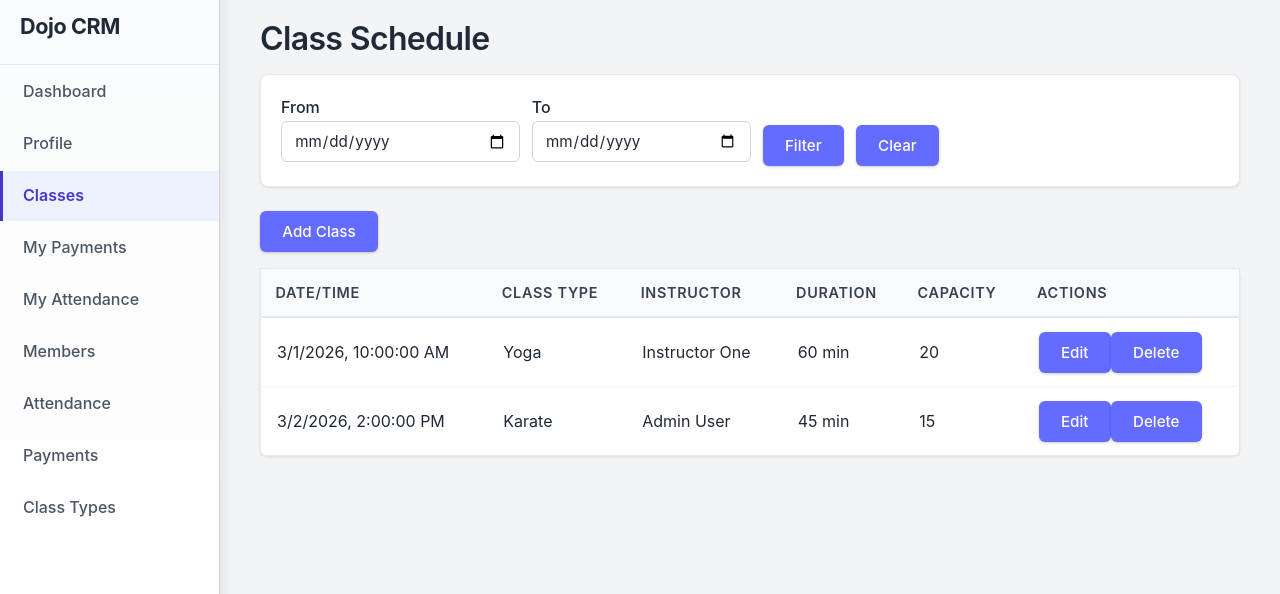
Test: Classes › shows error when class creation fails
The image size is (1280, 594).
Click the button "Add Class". click: (319, 232)
box: x1=260 y1=211 x2=378 y2=252
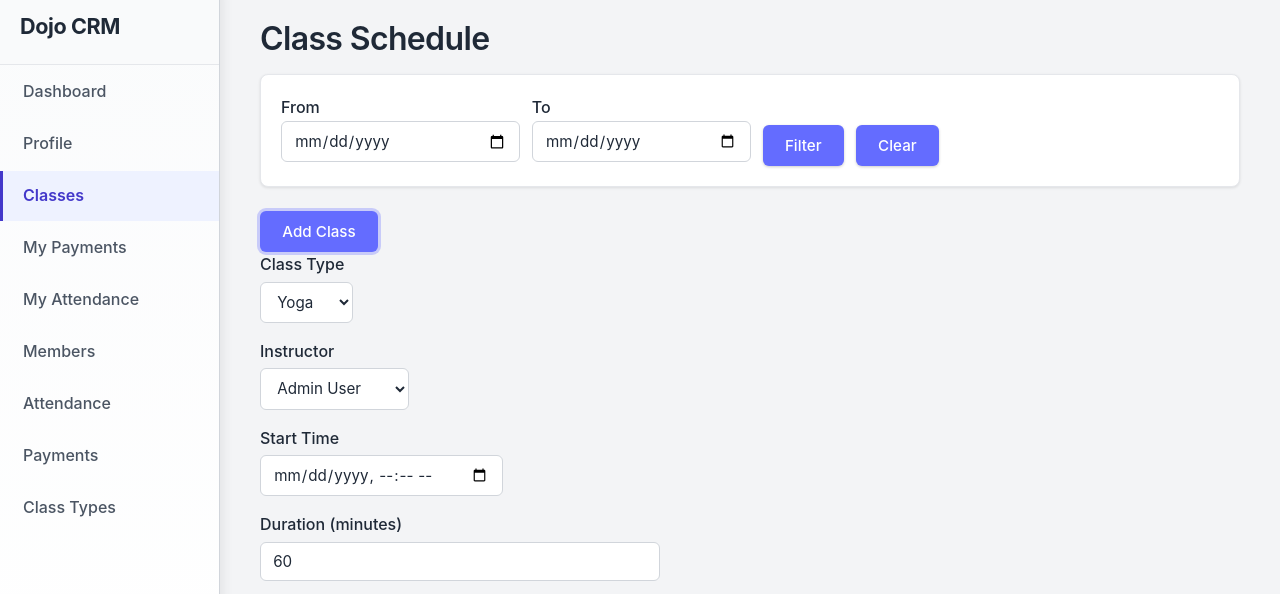
Type "2026-04-01T09:00" into the field labelled "Start Time". click: (381, 476)
box: x1=260 y1=455 x2=502 y2=496
(page scrolled)
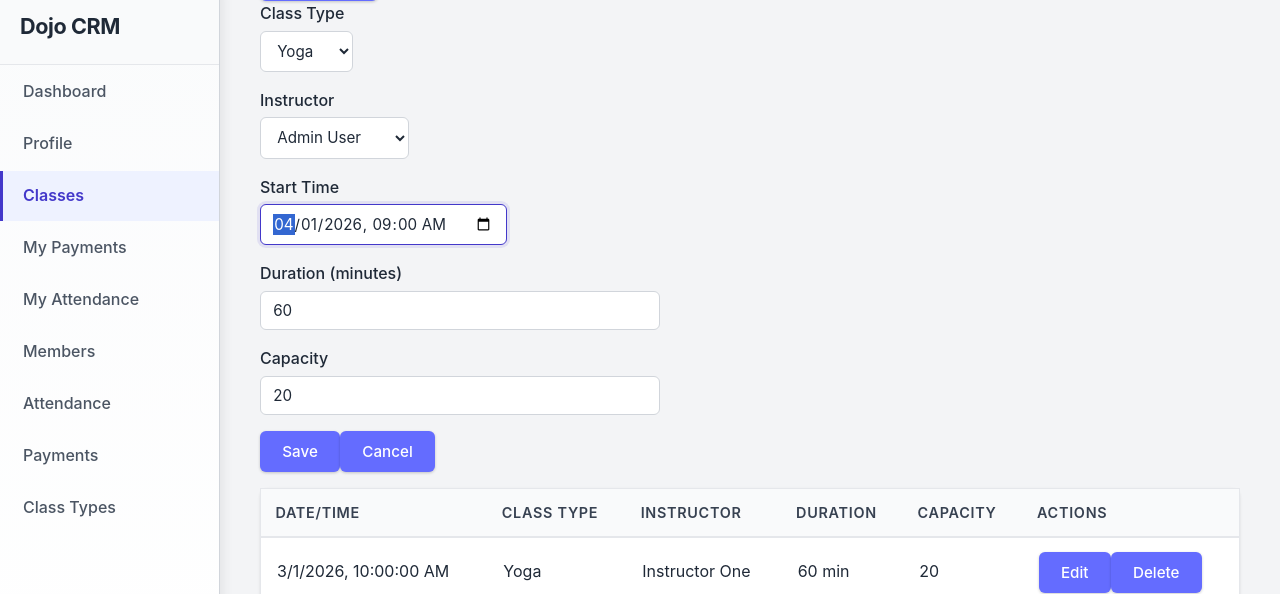
Click the button "Save". click: (300, 451)
box: x1=260 y1=431 x2=340 y2=472
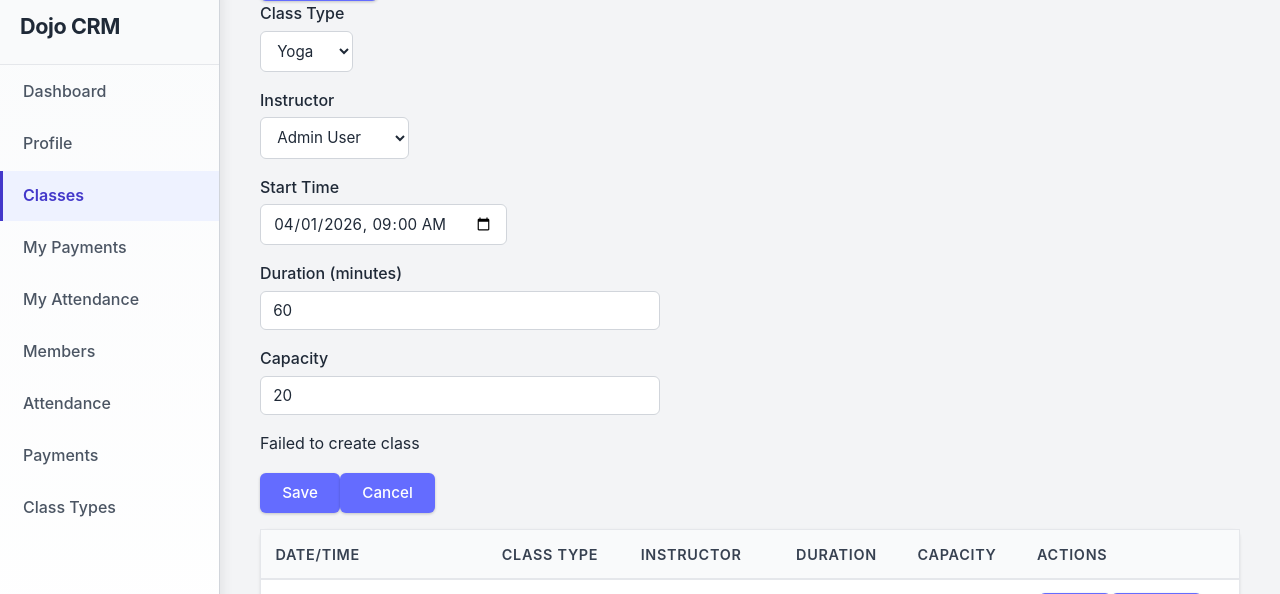
Expected: the message reads "Failed to create class", x1=260 y1=433 x2=420 y2=453
